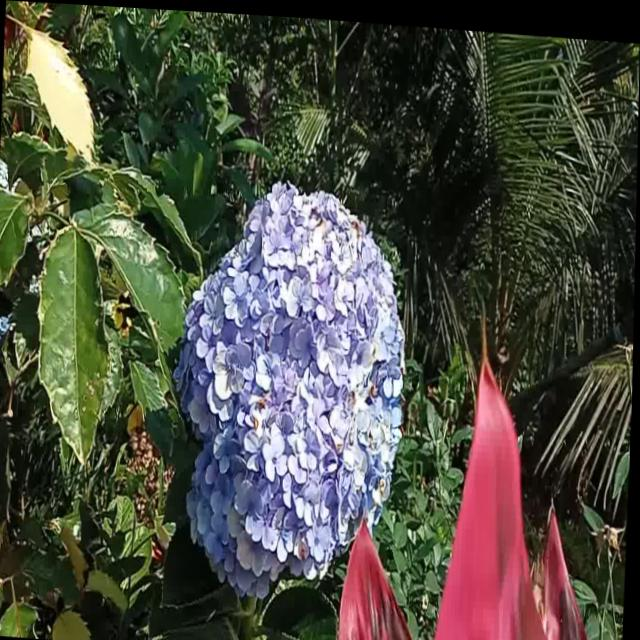Flower: (167, 163, 416, 605)
